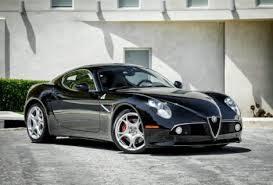car: (20, 58, 242, 165)
